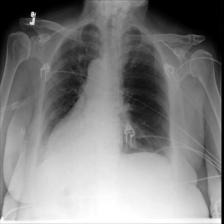normal: (35, 20, 177, 167)
